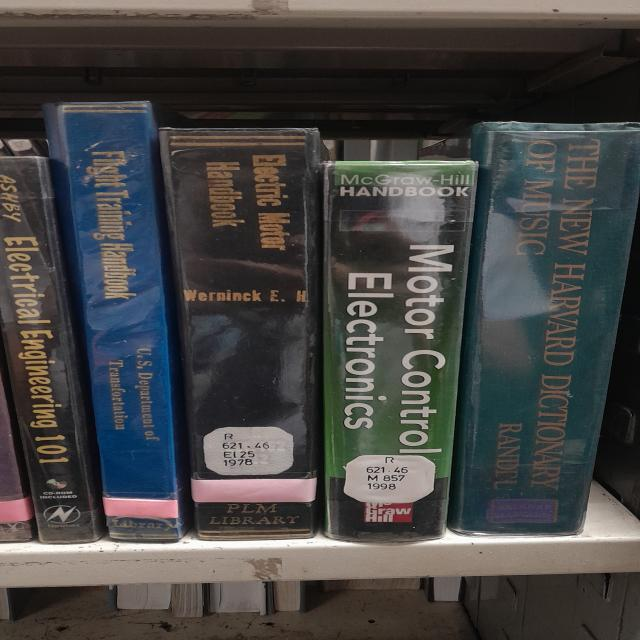book: (449, 122, 640, 537), (160, 128, 328, 539), (43, 101, 187, 539), (324, 160, 478, 542), (0, 158, 101, 542)
